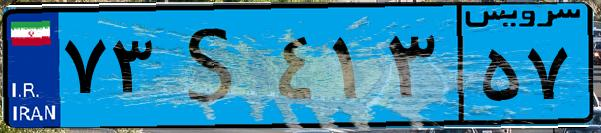1: (330, 28, 385, 110)
3: (385, 28, 445, 110), (110, 28, 158, 98)
4: (270, 28, 330, 110)
5: (475, 38, 525, 113)
7: (57, 26, 110, 100), (525, 38, 570, 115)
S: (158, 12, 270, 120)
